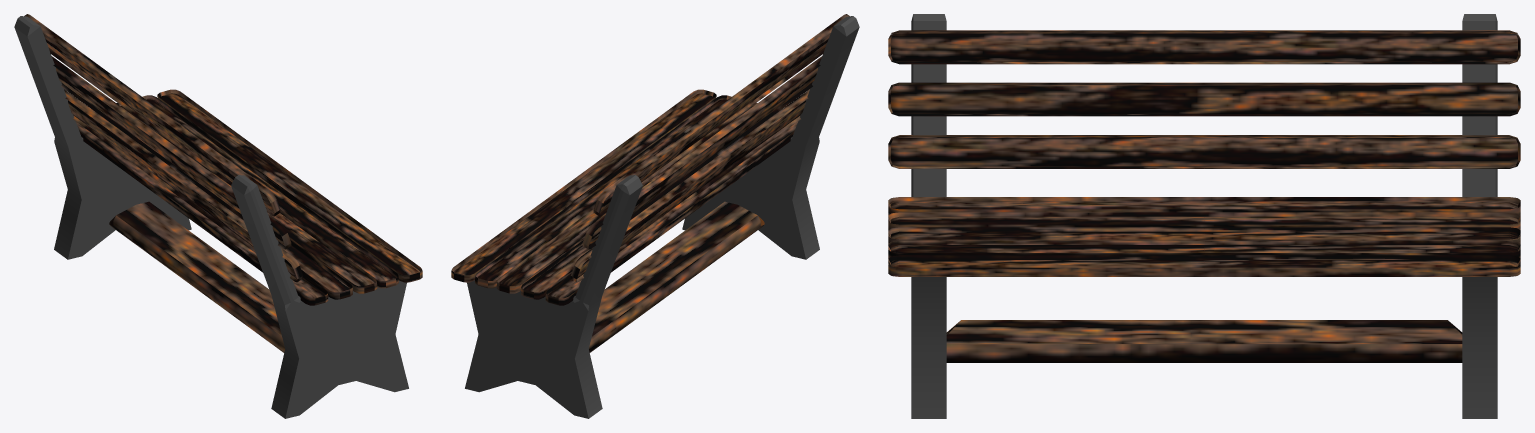
File: Bench.fbx
The picture shows the model from 3 angles, left to right: view 1: azimuth 30°, elevation 25°; view 2: azimuth 150°, elevation 25°; view 3: azimuth 270°, elevation 25°; orthographic projection. The views are drawn at different scales.
Parts seen in each view (by area): view 1: Bemch; view 2: Bemch; view 3: Bemch.
Boxes of the visible parts, box(x1,y1,x2,y2) form: Bemch: box(14, 14, 422, 418); Bemch: box(451, 14, 859, 418); Bemch: box(888, 14, 1520, 418).
Size of the model in its own units: 173 by 68.63 by 92.69.
